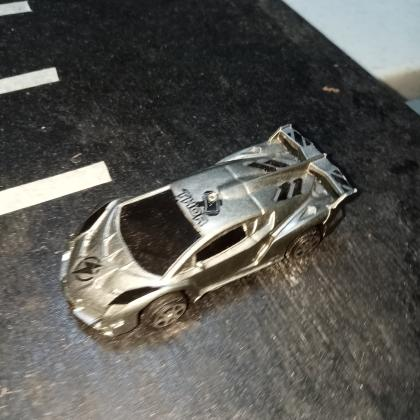Car: (57, 122, 362, 338)
